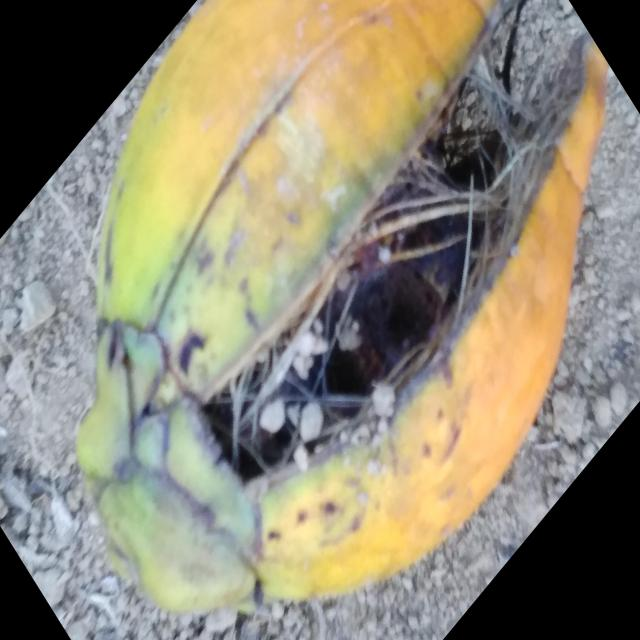damaged: (76, 0, 611, 613)
